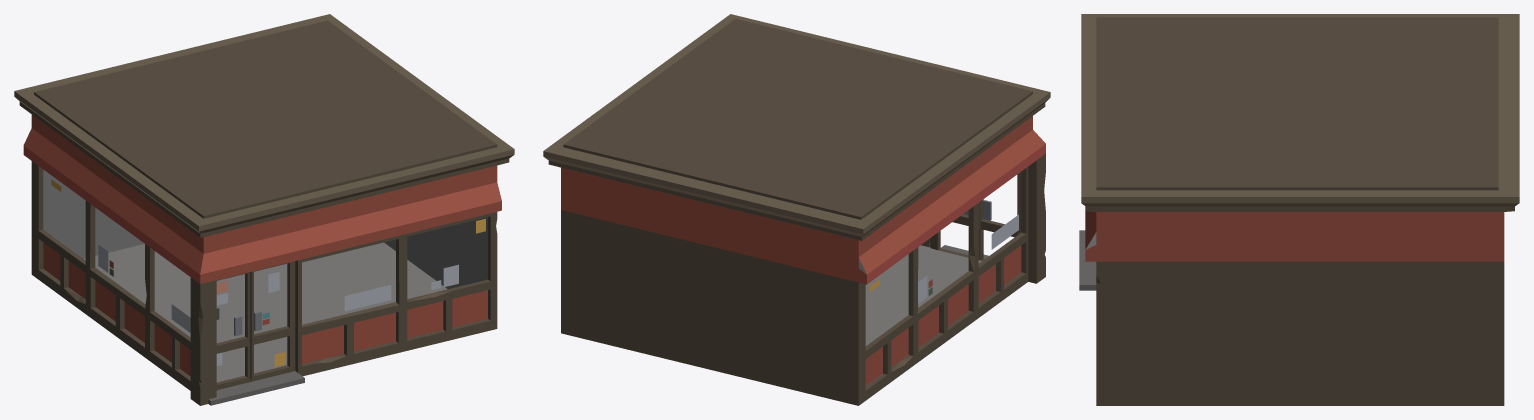
The model's file is shop_corner.glb.
3 views of the same model, side by side, from view 1: azimuth 30°, elevation 25°; view 2: azimuth 150°, elevation 25°; view 3: azimuth 270°, elevation 25° (orthographic). The views are drawn at different scales.
Parts seen in each view (by area): view 1: SM_Bld_Shop_Corner_01; view 2: SM_Bld_Shop_Corner_01; view 3: SM_Bld_Shop_Corner_01.
Boxes of the visible parts, <box> form: SM_Bld_Shop_Corner_01: <box>14,14,514,405</box>; SM_Bld_Shop_Corner_01: <box>543,14,1050,405</box>; SM_Bld_Shop_Corner_01: <box>1079,14,1519,405</box>.
Bounding box in the file's own units: 5.38 × 3 × 5.47.
Materials: 1 (1 with a texture image).
